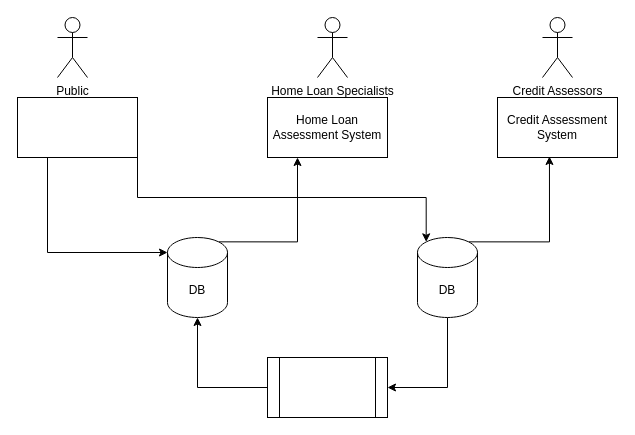
This 635x435 diagram has some shape labels left out. Here are the shapes that lost their labels. From the top down, the centre of each, then its label:
(x=77, y=127): Website/Webapp
(x=327, y=387): Assessment Pipeline
